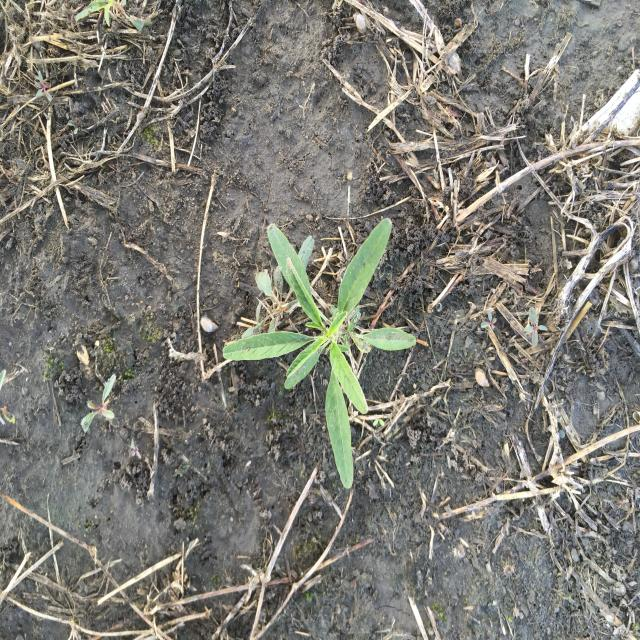Waterhemp: (219, 215, 418, 492), (80, 373, 117, 437)
